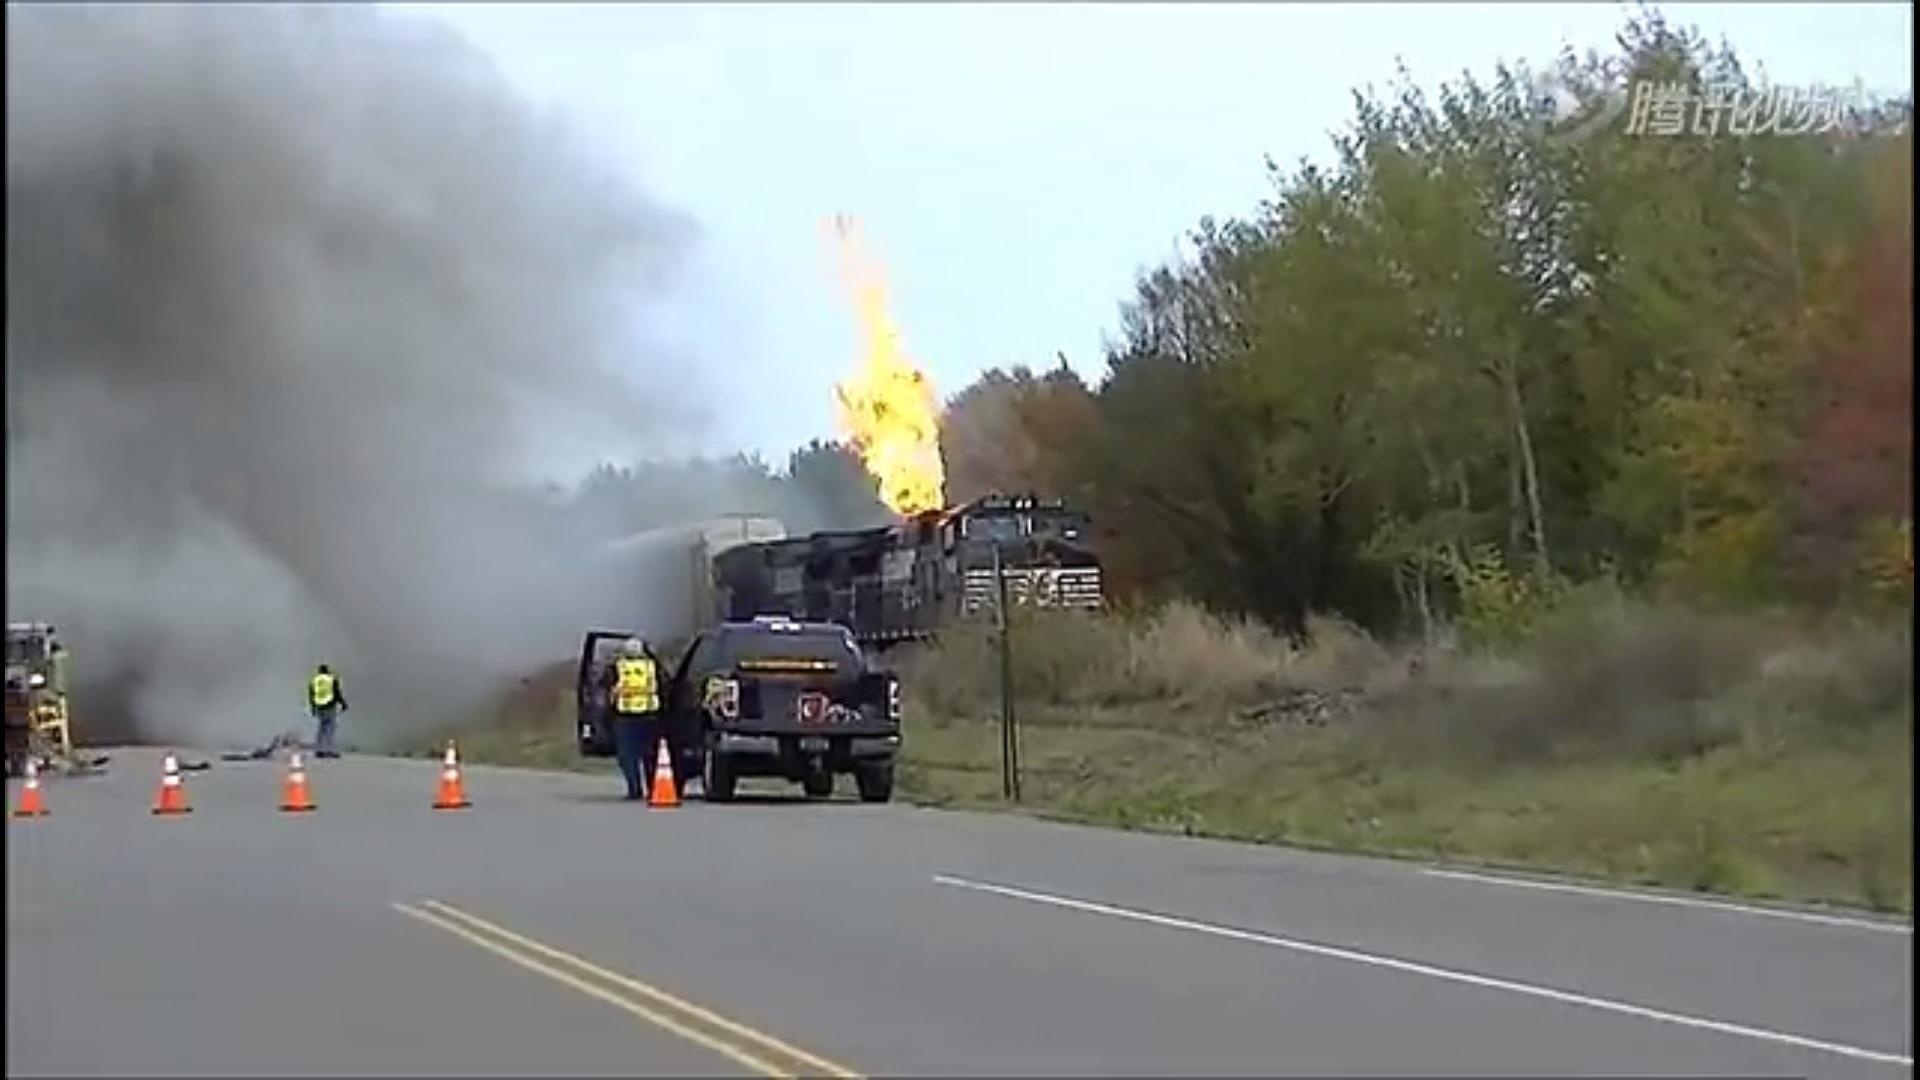fire: (819, 220, 942, 524)
